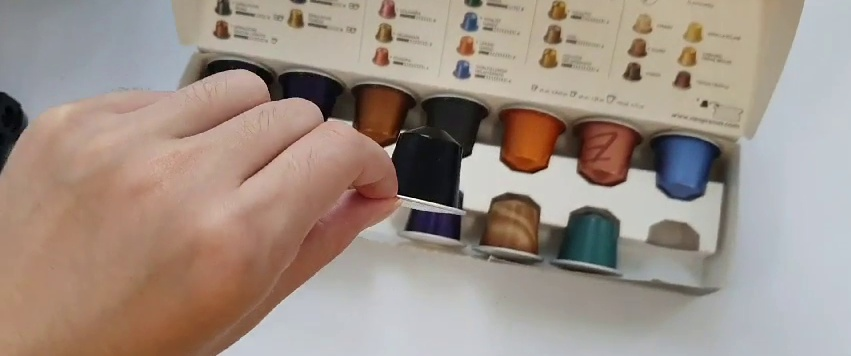capsule_10: (387, 128, 471, 221)
